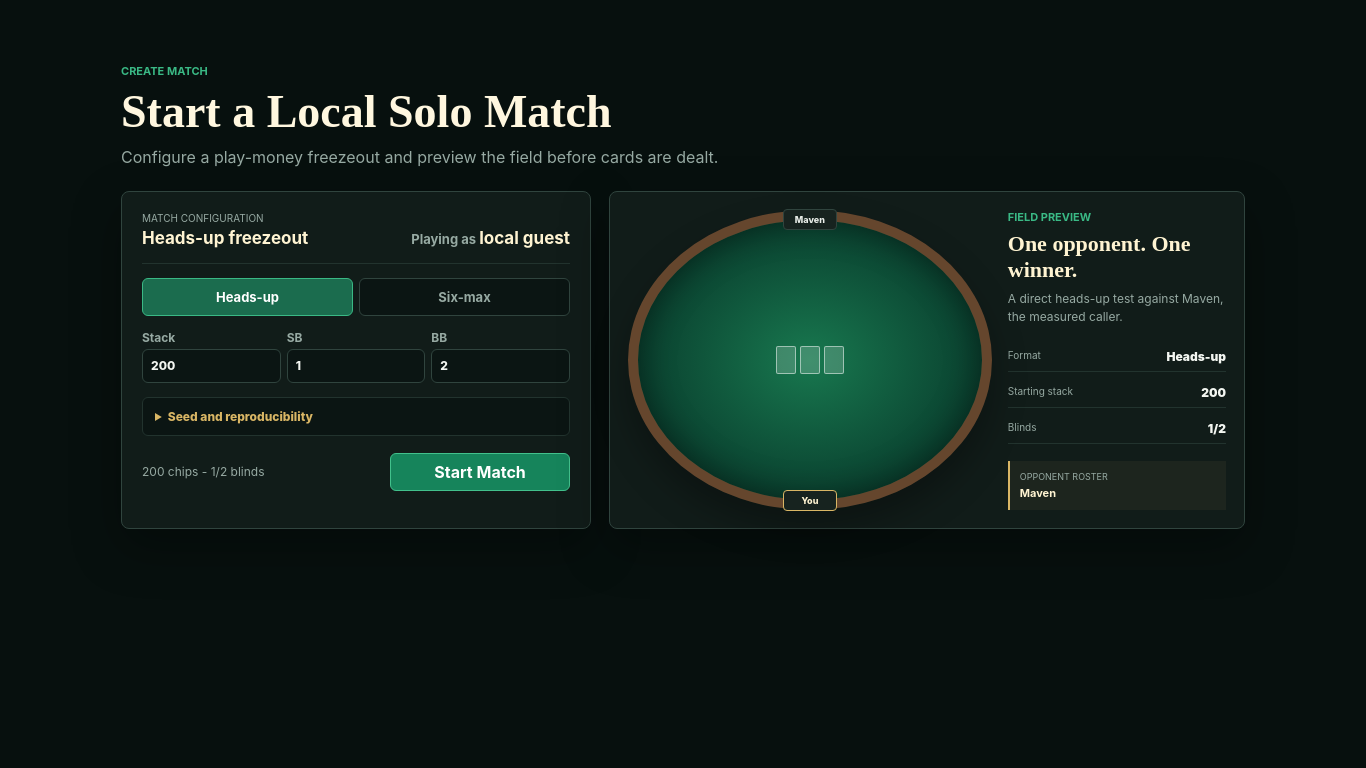
it: PokerTable › switches between one, two, and four table window layouts without creating extra sessions
Click the button "Start Match". click: click(480, 472)
box: [390,453,570,491]
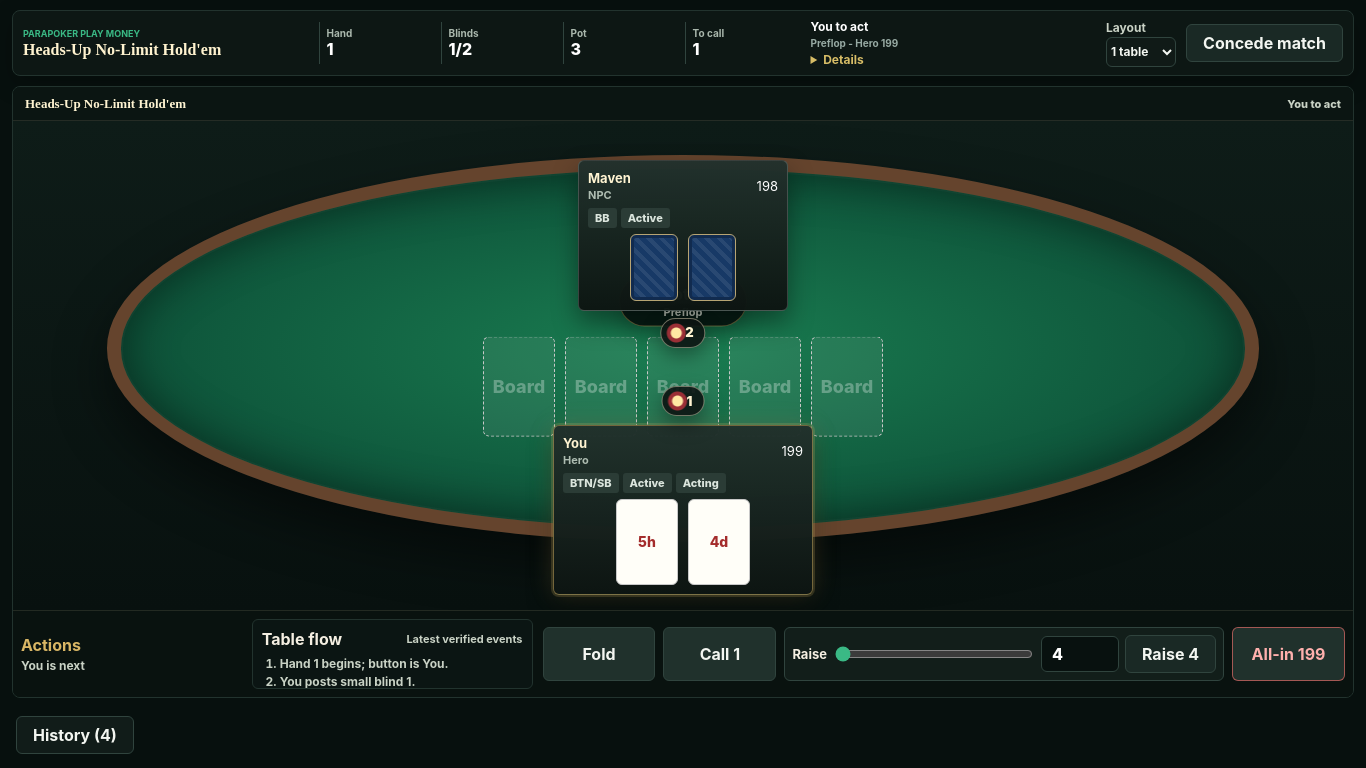
Expected: the number of headers with class "table-window-header" is 1, [13,87,1353,121]
Expected: the number of elements with class "table-stage" is 1
Expected: the number of footers with class "table-window-footer" is 1, [13,610,1353,697]
Select "2 tables" in the dropdown named "Table layout". click: (1141, 52)
box: [1106,36,1176,66]
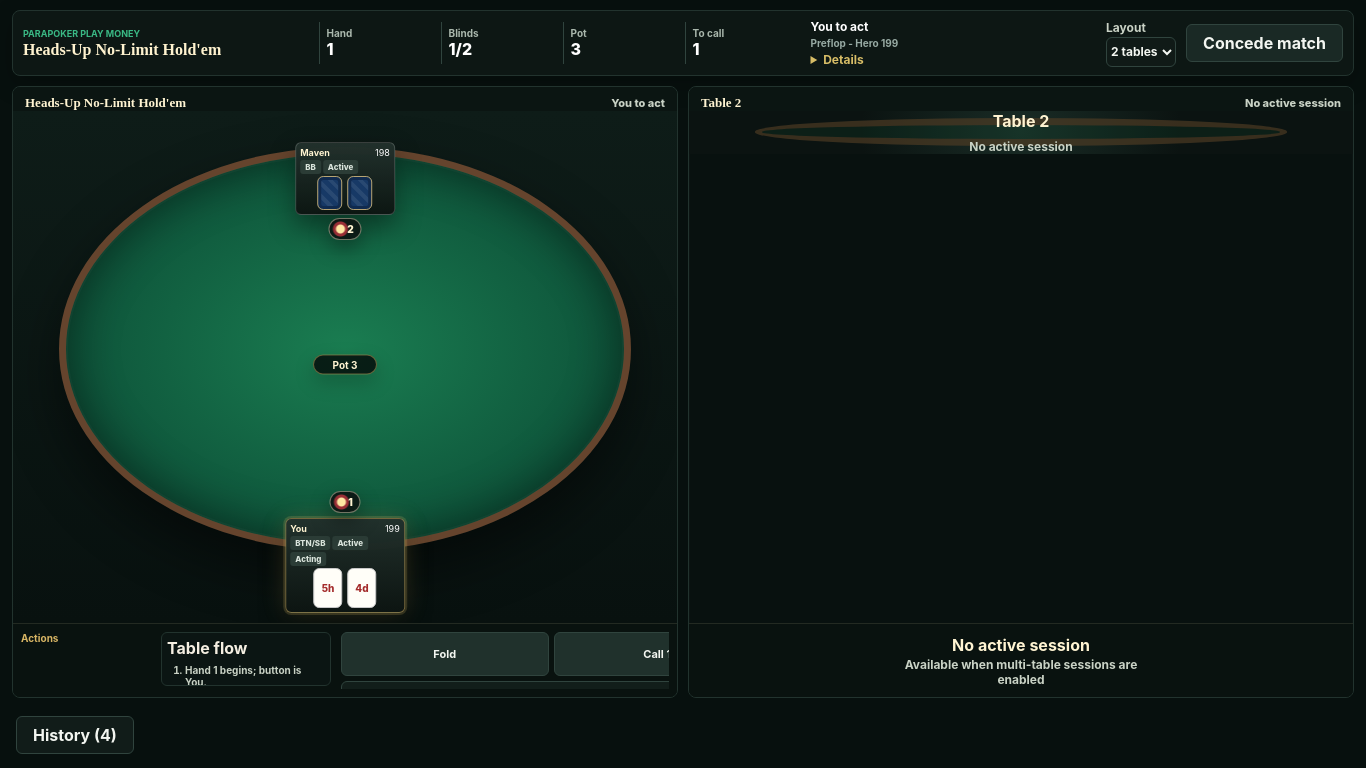
Expected: the number of headers with class "table-window-header" is 2, [13,87,677,119]; [689,87,1353,119]
Expected: the number of elements with class "table-stage" is 2, [13,111,677,623]; [689,111,1353,154]
Expected: the number of footers with class "table-window-footer" is 2, [13,623,677,697]; [689,623,1353,697]
Select "4 tables" in the dropdown named "Table layout". click: (1141, 52)
box: [1106,36,1176,66]
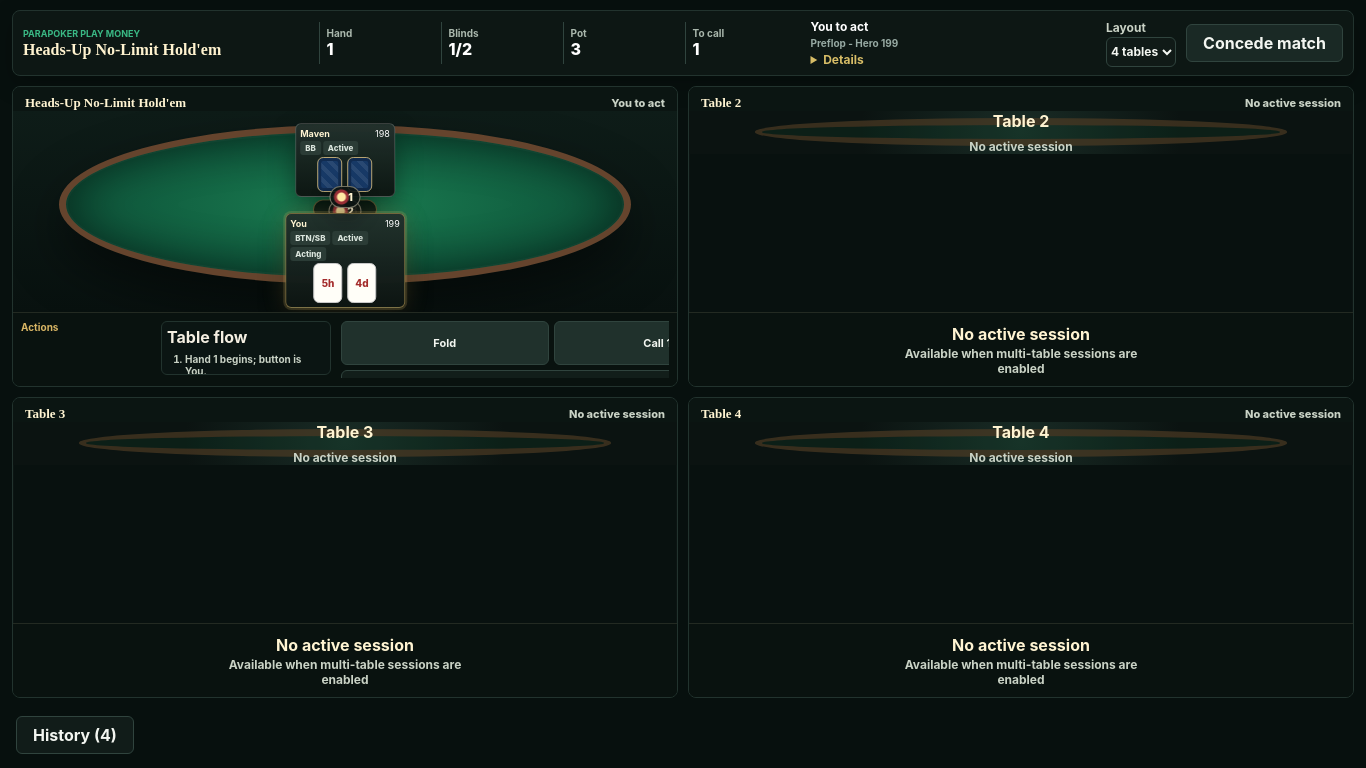
Expected: the number of headers with class "table-window-header" is 4, [13,87,677,119]; [689,87,1353,119]; [13,398,677,430]; [689,398,1353,430]
Expected: the number of elements with class "table-stage" is 4, [13,111,677,312]; [689,111,1353,154]; [13,422,677,465]; [689,422,1353,465]
Expected: the number of footers with class "table-window-footer" is 4, [13,312,677,386]; [689,312,1353,386]; [13,623,677,697]; [689,623,1353,697]
